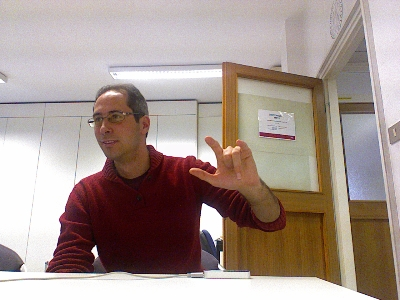我爱你: (187, 134, 259, 191)
